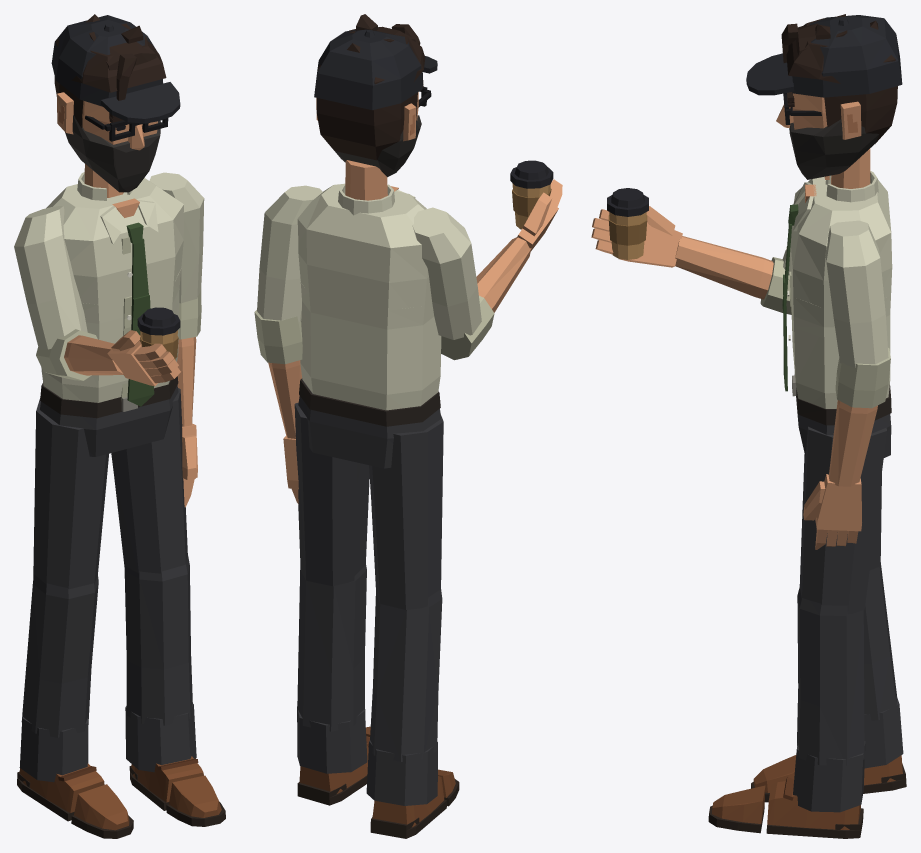
The model's file is npc.glb.
The picture shows the model from 3 angles, left to right: view 1: azimuth 30°, elevation 25°; view 2: azimuth 150°, elevation 25°; view 3: azimuth 270°, elevation 25°; orthographic projection. The views are drawn at different scales.
Parts seen in each view (by area): view 1: top_T03_shirt_chest, pants_P02_thigh_R, pants_P02_shin_L, pants_P02_shin_R, pants_P02_thigh_L, top_T03_sleeve_R, hat_A01_cap, pants_P02_pelvis, hair_R04_crown, beard_B02, pants_P02_hem_L, pants_P02_hem_R (+24 smaller); view 2: top_T03_shirt_chest, top_T03_shirt_waist, pants_P02_thigh_R, pants_P02_shin_R, pants_P02_shin_L, pants_P02_thigh_L, hat_A01_cap, top_T03_sleeve_R, top_T03_sleeve_L, pants_P02_pelvis, hair_R04_cap, pants_P02_hem_R (+16 smaller); view 3: pants_P02_shin_L, top_T03_shirt_chest, pants_P02_thigh_L, hat_A01_cap, top_T03_sleeve_L, top_T03_shirt_waist, pants_P02_shin_R, pants_P02_hem_L, arm_R_lower, beard_B02, hand_L, arm_L_lower (+19 smaller).
Part boxes in pixels (left/top/right/bottom): top_T03_shirt_chest: left=46, top=172, right=183, bottom=334; pants_P02_thigh_R: left=33, top=398, right=108, bottom=589; pants_P02_shin_L: left=124, top=554, right=192, bottom=725; pants_P02_shin_R: left=21, top=574, right=98, bottom=737; pants_P02_thigh_L: left=111, top=388, right=187, bottom=573; top_T03_sleeve_R: left=14, top=206, right=87, bottom=349; hat_A01_cap: left=51, top=15, right=180, bottom=123; pants_P02_pelvis: left=40, top=385, right=178, bottom=456; hair_R04_crown: left=55, top=14, right=166, bottom=100; beard_B02: left=65, top=115, right=160, bottom=192; pants_P02_hem_L: left=125, top=704, right=196, bottom=772; pants_P02_hem_R: left=19, top=716, right=88, bottom=782; top_T03_shirt_chest: left=297, top=183, right=436, bottom=340; top_T03_shirt_waist: left=300, top=282, right=441, bottom=410; pants_P02_thigh_R: left=369, top=414, right=443, bottom=609; pants_P02_shin_R: left=370, top=589, right=442, bottom=761; pants_P02_shin_L: left=297, top=564, right=366, bottom=731; pants_P02_thigh_L: left=294, top=402, right=369, bottom=586; hat_A01_cap: left=314, top=29, right=437, bottom=110; top_T03_sleeve_R: left=412, top=207, right=481, bottom=339; top_T03_sleeve_L: left=257, top=185, right=322, bottom=321; pants_P02_pelvis: left=298, top=379, right=441, bottom=468; hair_R04_cap: left=316, top=92, right=417, bottom=160; pants_P02_hem_R: left=366, top=740, right=437, bottom=805; pants_P02_shin_L: left=797, top=587, right=864, bottom=765; top_T03_shirt_chest: left=790, top=171, right=892, bottom=338; pants_P02_thigh_L: left=799, top=426, right=886, bottom=614; hat_A01_cap: left=746, top=15, right=902, bottom=97; top_T03_sleeve_L: left=825, top=220, right=888, bottom=367; top_T03_shirt_waist: left=791, top=279, right=890, bottom=408; pants_P02_shin_R: left=863, top=562, right=897, bottom=720; pants_P02_hem_L: left=793, top=741, right=865, bottom=812; arm_R_lower: left=675, top=236, right=773, bottom=299; beard_B02: left=789, top=119, right=879, bottom=179; hand_L: left=803, top=474, right=861, bottom=549; arm_L_lower: left=828, top=400, right=877, bottom=486.
Bounding box in the file's own units: 0.466 × 1.8 × 0.6466.
